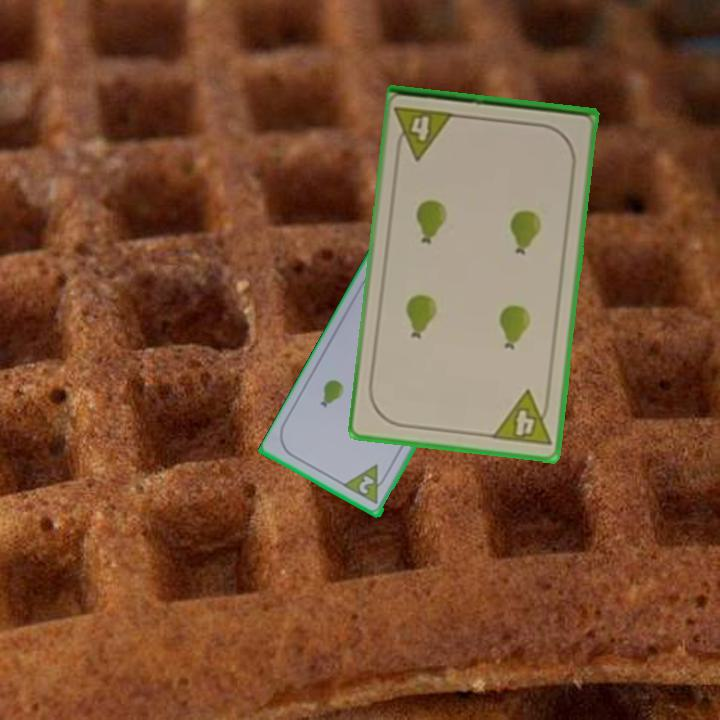2p: (355, 472, 377, 497)
4p: (488, 387, 554, 449), (392, 103, 458, 163)
